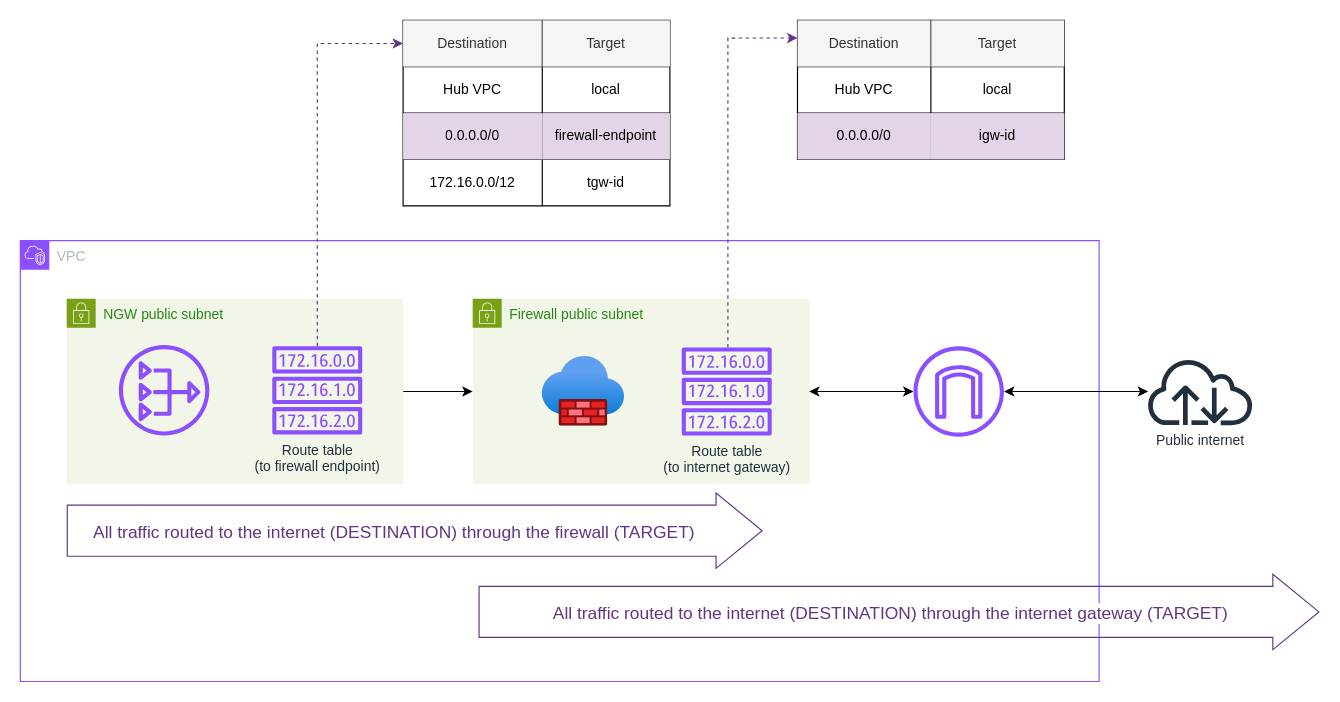
Image size: 1340x702. Some labels were removed from this diagram. The shapes that lost their labels are listed below. From the top down, each one's centre as x and y in pixels, then its label:
At [163,390]: "NAT gateway".
At [583,391]: "Network firewall".
At [958,391]: "Internet gateway".
